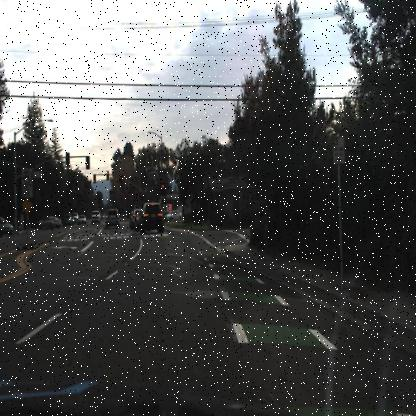car: (141, 204, 165, 233), (36, 212, 62, 231), (105, 207, 119, 226), (62, 214, 74, 227), (90, 210, 100, 225), (78, 214, 86, 226)
trafficLight: (92, 172, 96, 183)
trafficLight-Red: (139, 186, 145, 199), (160, 181, 166, 194), (105, 170, 110, 182), (118, 173, 123, 183), (106, 170, 110, 182), (119, 172, 122, 185)
